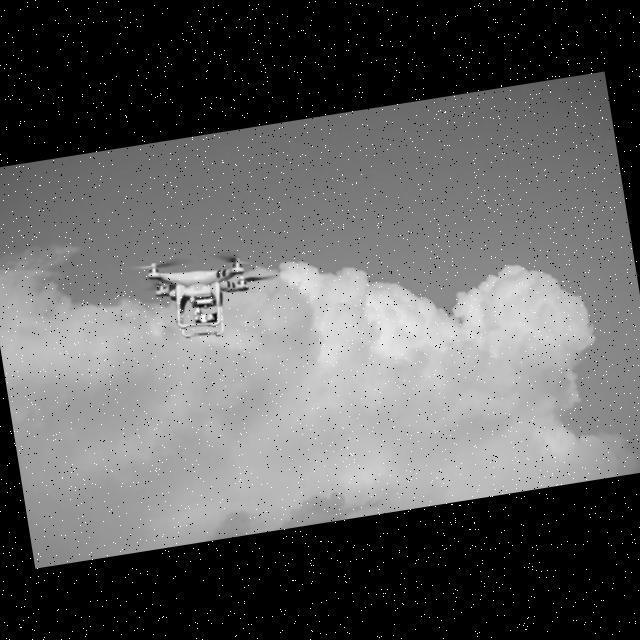Drons: (110, 230, 286, 357)
